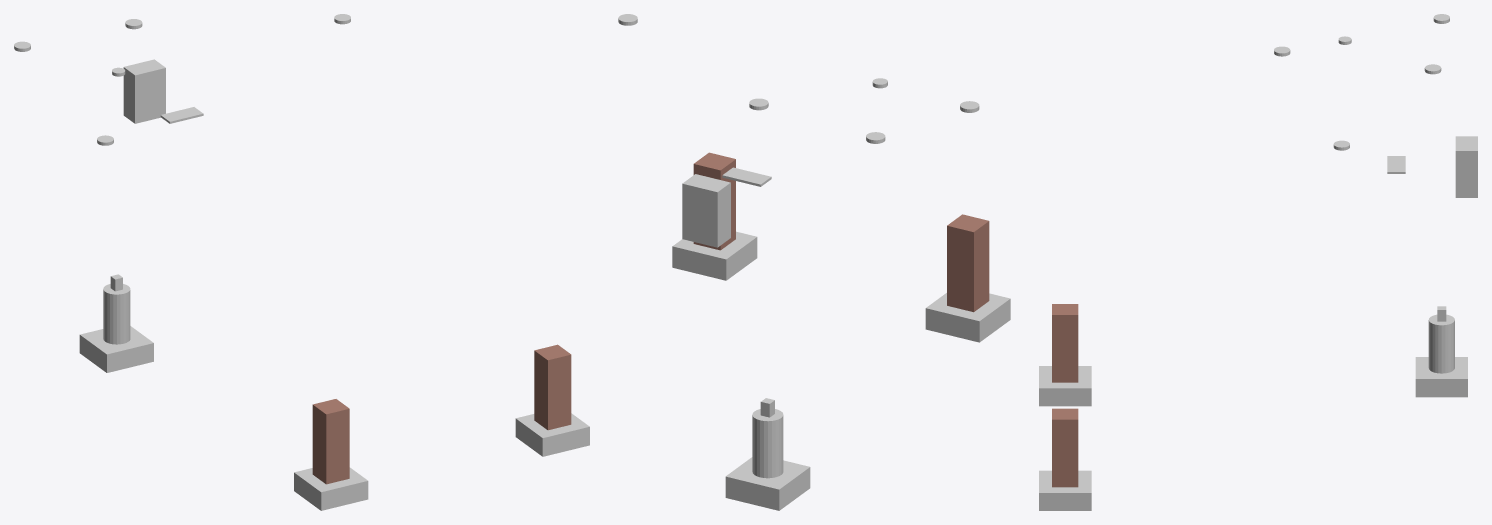
3 views of the same model, side by side, from view 1: azimuth 30°, elevation 25°; view 2: azimuth 150°, elevation 25°; view 3: azimuth 270°, elevation 25° (orthographic). The views are drawn at different scales.
Bounding box in the file's own units: 4.75 × 4.15 × 5.09.
